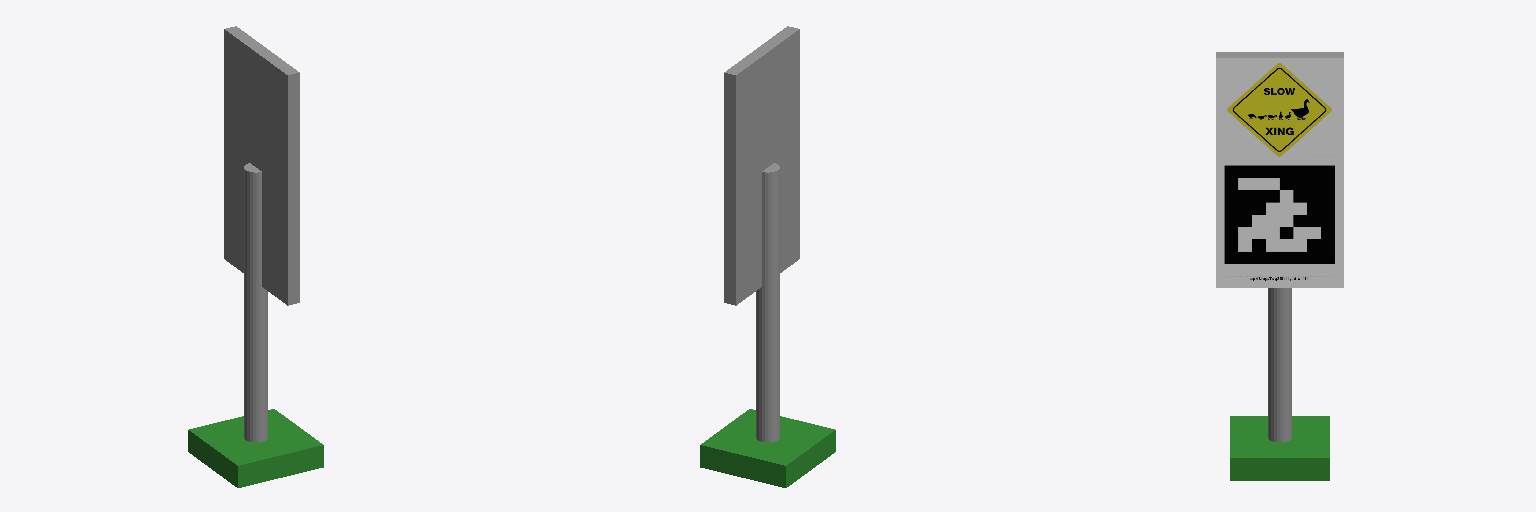
3 views of the same model, side by side, from view 1: azimuth 30°, elevation 25°; view 2: azimuth 150°, elevation 25°; view 3: azimuth 270°, elevation 25° (orthographic).
Parts seen in each view (by area): view 1: SketchUp.002_ID23, SketchUp_ID2, SketchUp.001_ID10; view 2: SketchUp.002_ID23, SketchUp_ID2, SketchUp.001_ID10; view 3: SketchUp.003_ID31, SketchUp_ID2, SketchUp.001_ID10, SketchUp.002_ID23.
Part boxes in pixels (x1,y1,x2,y2): SketchUp.002_ID23: (224, 26, 299, 305); SketchUp_ID2: (188, 409, 323, 487); SketchUp.001_ID10: (244, 163, 267, 441); SketchUp.002_ID23: (724, 26, 799, 305); SketchUp_ID2: (700, 409, 835, 487); SketchUp.001_ID10: (756, 163, 779, 441); SketchUp.003_ID31: (1216, 58, 1343, 287); SketchUp_ID2: (1230, 416, 1329, 480); SketchUp.001_ID10: (1268, 288, 1291, 441); SketchUp.002_ID23: (1216, 52, 1343, 57).
Size of the model in its own units: 0.0508 by 0.2301 by 0.065.
3 materials, 1 textured.